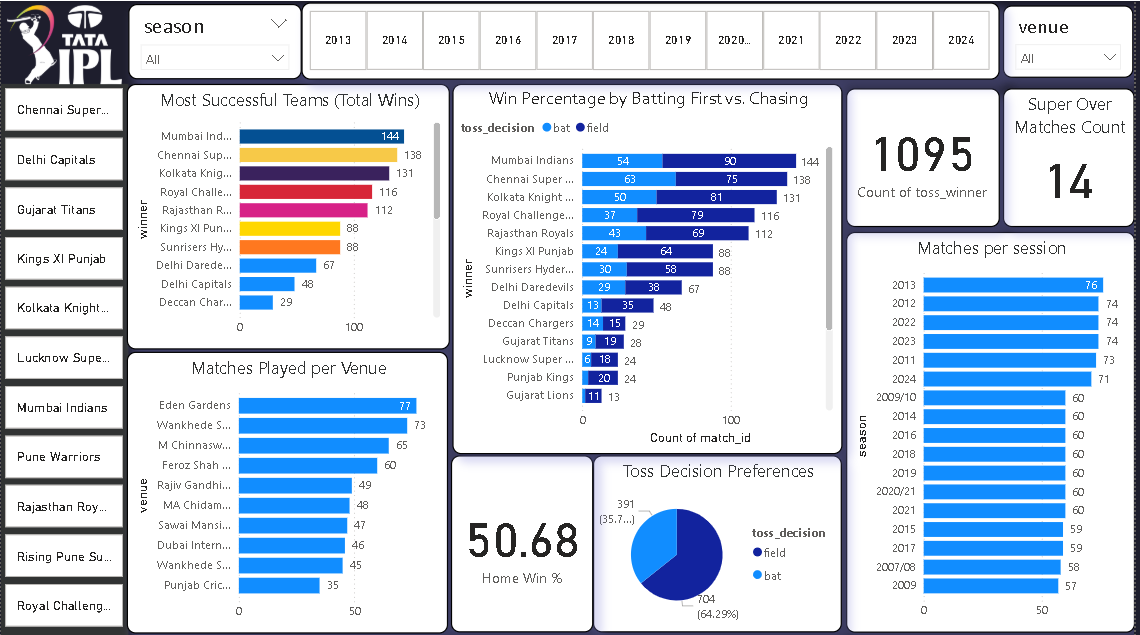

The page's visual inventory and layout, read from the dashboard file:
{"tool":"powerbi","page":{"name":"Match Overview","canvas":[1280,720],"ordinal":0},"visuals":[{"type":"slicer","fields":{"Values":["matches.season"]},"box":[143.7,3.9,196.1,85.4],"z":0},{"type":"advancedSlicerVisual","fields":{"Values":["matches.team2"]},"box":[0,93.2,143.7,627.2],"z":1000},{"type":"slicer","fields":{"Values":["matches.venue"]},"box":[1132.1,5.8,147.6,81.6],"z":2000},{"type":"clusteredBarChart","title":"Matches per session","fields":{"Category":["matches.season"],"Y":["CountNonNull(matches.match_id)"]},"box":[953.8,261,326.2,452.7],"z":3000},{"type":"clusteredBarChart","title":"Most Successful Teams (Total Wins)","fields":{"Y":["CountNonNull(matches.match_id)"],"Category":["matches.winner"]},"box":[142.7,93.8,365,299.7],"z":4000},{"type":"pieChart","title":"Toss Decision Preferences","fields":{"Category":["matches.toss_decision"],"Y":["CountNonNull(matches.match_id)"]},"box":[668.8,513.8,281.4,199.8],"z":5000},{"type":"kpi","title":" Super Over Matches Count","fields":{"Indicator":["CountNonNull(matches.match_id)"],"TrendLine":["matches.result"]},"box":[1131.2,97.9,148.8,157],"z":6000},{"type":"clusteredBarChart","title":"Matches Played per Venue","fields":{"Category":["matches.venue"],"Y":["CountNonNull(matches.match_id)"]},"box":[142.7,395.6,363,318.1],"z":7000},{"type":"card","fields":{"Values":["deliveries.Home Win %"]},"box":[507.7,513.8,161.1,199.8],"z":8000},{"type":"card","fields":{"Values":["CountNonNull(matches.toss_winner)"]},"box":[954.3,97.9,173.3,157],"z":9000},{"type":"barChart","title":" Win Percentage by Batting First vs. Chasing","fields":{"Y":["CountNonNull(matches.match_id)"],"Category":["matches.winner"],"Series":["matches.toss_decision"]},"box":[509.8,93.8,440.4,418],"z":10000},{"type":"advancedSlicerVisual","fields":{"Values":["matches.season"]},"box":[339.8,1.9,788.4,87.4],"z":11000},{"type":"image","box":[0,0,143.7,99],"z":12000}]}

Visuals, with their boxes in screenshot pixels (x1, y1, x2, y2), scaled from the page's 1280x720 canvas onto the 1140x635 screenshot:
slicer - matches.season: (128, 3, 303, 79)
advancedSlicerVisual - matches.team2: (0, 82, 128, 634)
slicer - matches.venue: (1008, 5, 1139, 77)
"Matches per session" clusteredBarChart: (849, 230, 1139, 629)
"Most Successful Teams (Total Wins)" clusteredBarChart: (127, 83, 452, 347)
"Toss Decision Preferences" pieChart: (596, 453, 846, 629)
" Super Over Matches Count" kpi: (1007, 86, 1139, 225)
"Matches Played per Venue" clusteredBarChart: (127, 349, 450, 629)
card - deliveries.Home Win %: (452, 453, 596, 629)
card - CountNonNull(matches.toss_winner): (850, 86, 1004, 225)
" Win Percentage by Batting First vs. Chasing" barChart: (454, 83, 846, 451)
advancedSlicerVisual - matches.season: (303, 2, 1005, 79)
image: (0, 0, 128, 87)
